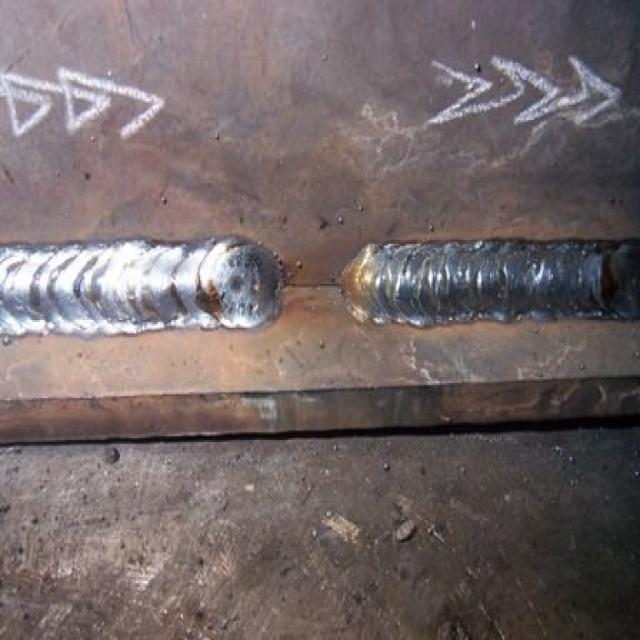Good Welding: (342, 240, 640, 327)
